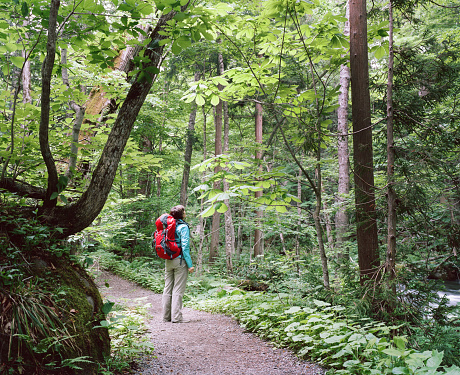em pe: (156, 195, 197, 330)
